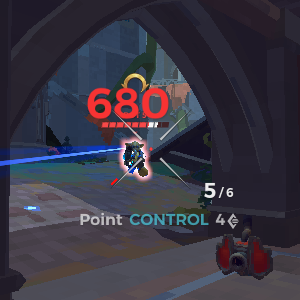model: (117, 138, 148, 183)
